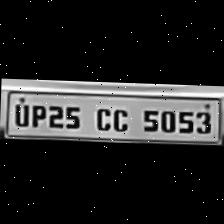0: (158, 107, 176, 133)
2: (46, 101, 64, 128)
3: (192, 106, 212, 134)
5: (136, 106, 160, 134), (61, 101, 84, 130), (175, 108, 194, 134)
C: (90, 104, 114, 132), (108, 104, 132, 132)
P: (26, 101, 46, 128)
U: (10, 100, 28, 126)
